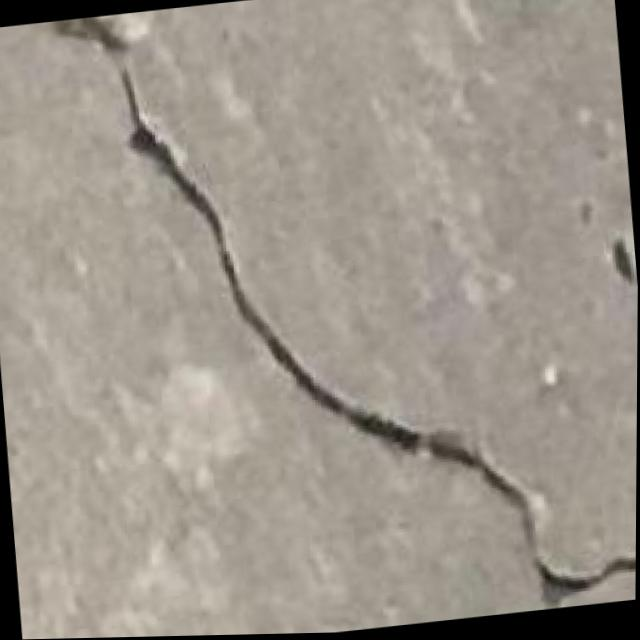Crack: (48, 0, 640, 639)
